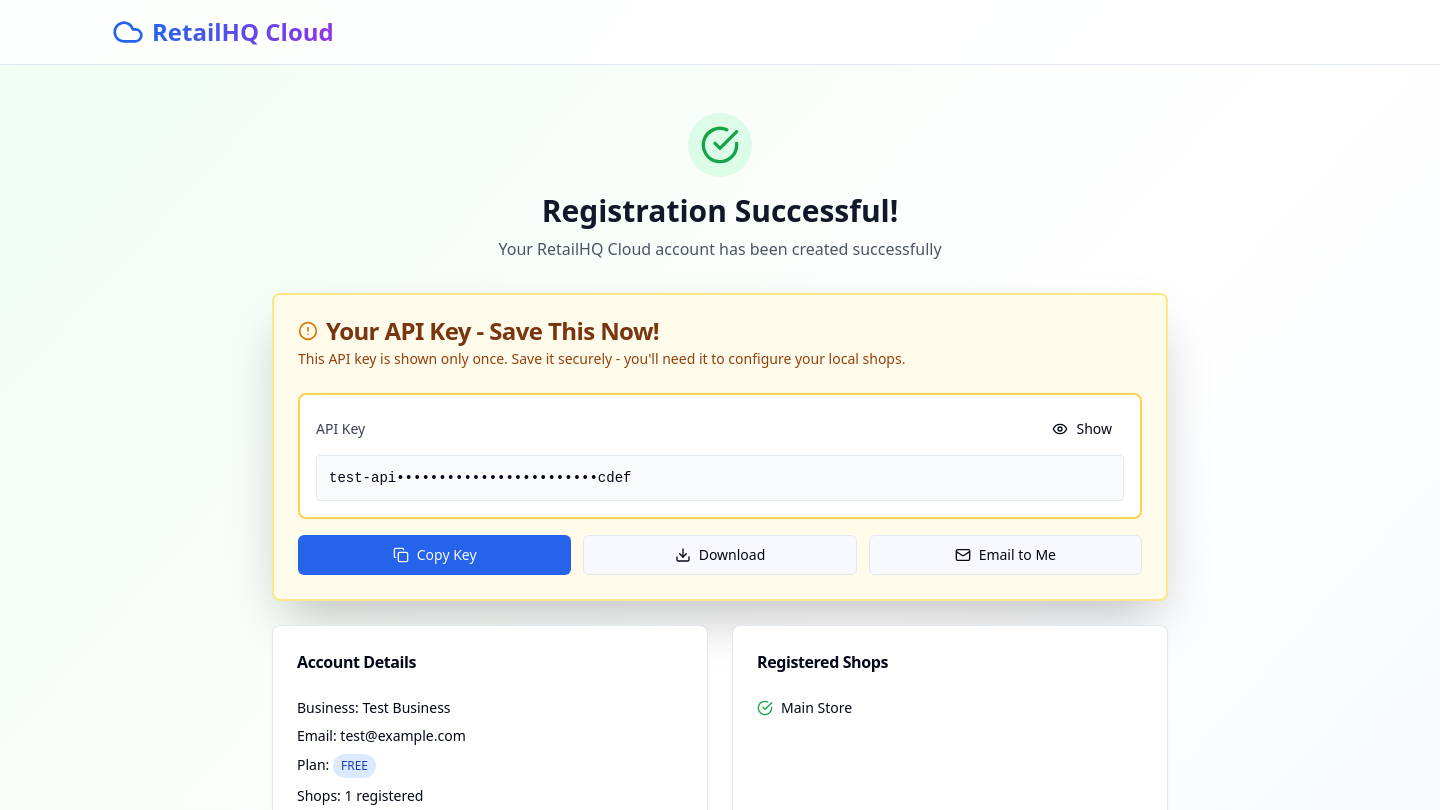
Test: RegistrationSuccessPage › should show/hide API key when toggle clicked
The image size is (1440, 810).
// Click show
Click the button "Show".
click(1082, 429)  # box [1040,411,1124,447]
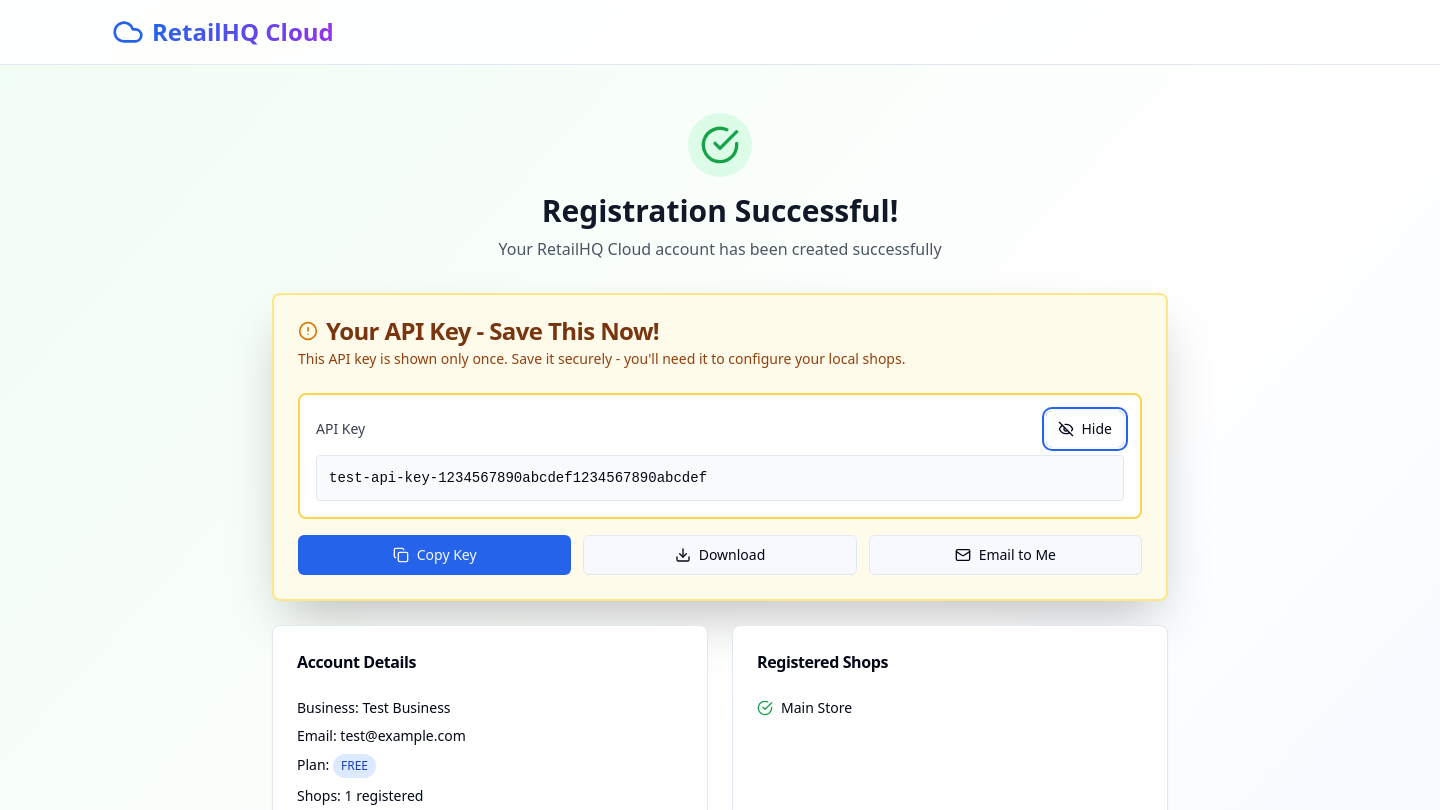
Expected: the button "Hide" is shown
// Click hide
Click the button "Hide".
click(1085, 429)  # box [1046,411,1124,447]
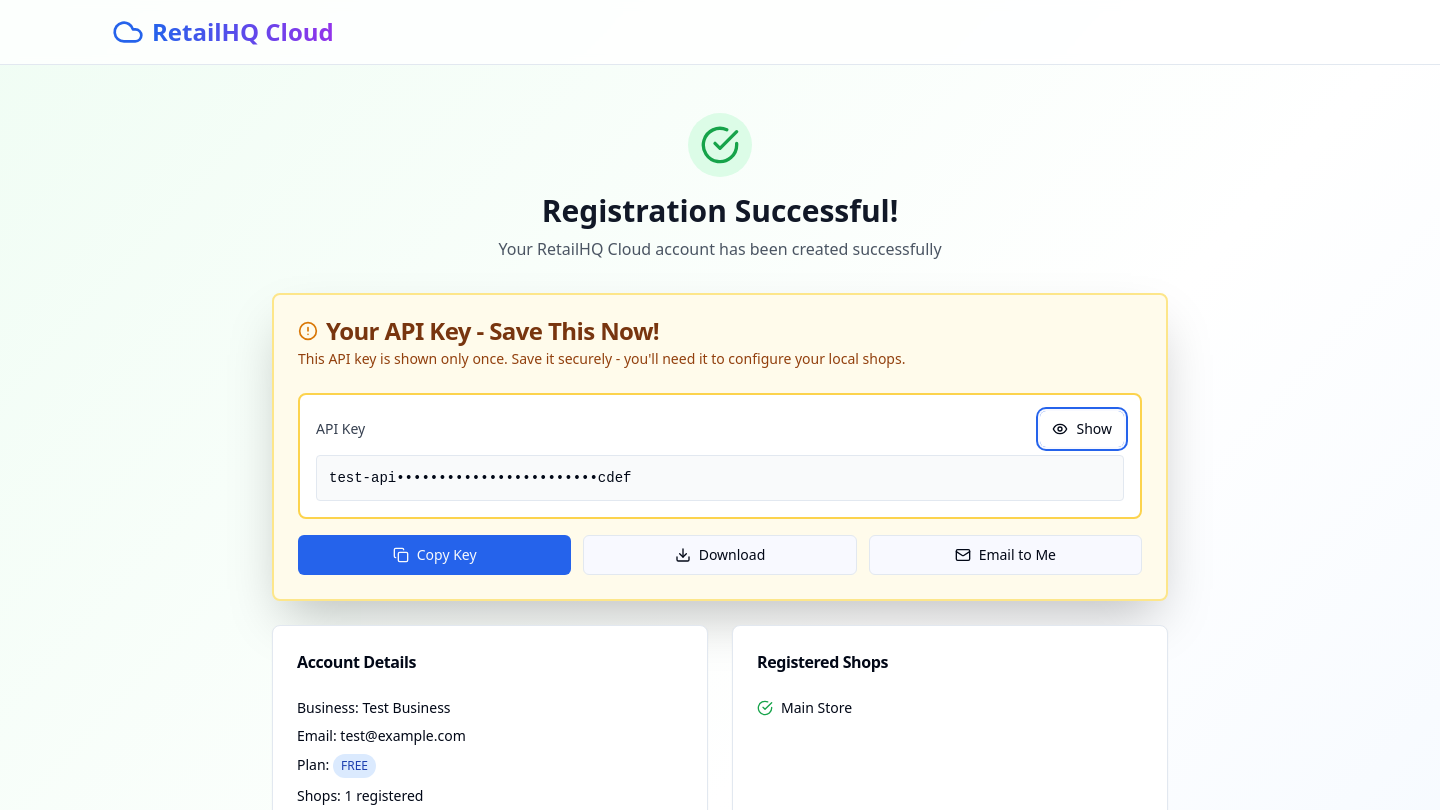
Expected: the button "Show" is shown, [1040,411,1124,447]
